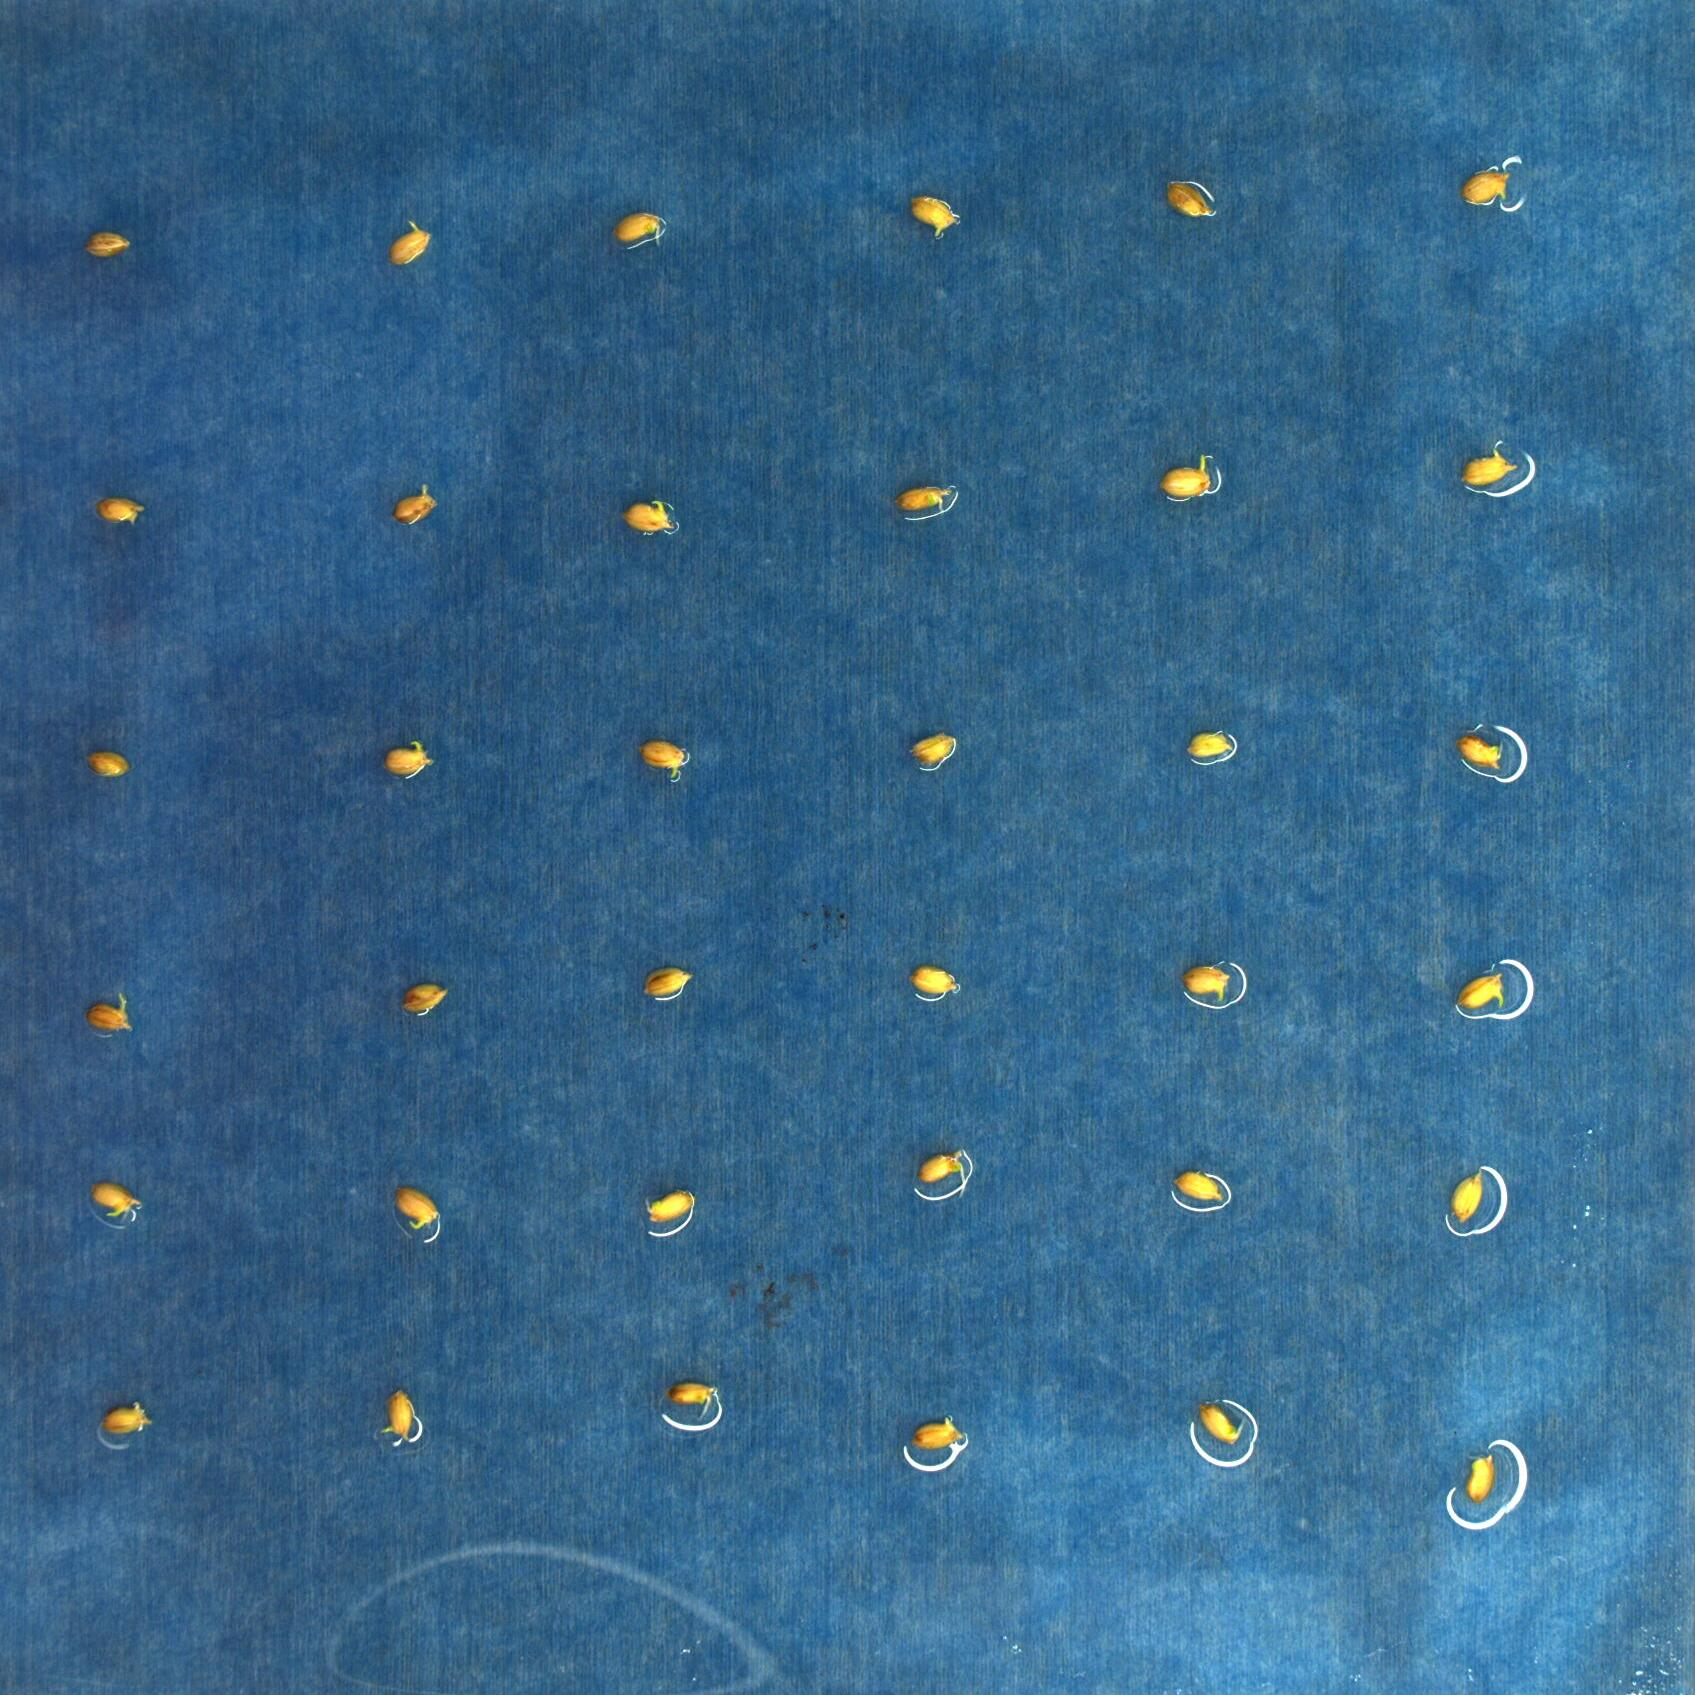not sprout: (1461, 438, 1516, 490), (1153, 450, 1211, 498), (1158, 179, 1217, 224), (888, 481, 951, 520), (1445, 168, 1510, 205), (1198, 1399, 1248, 1447), (85, 990, 140, 1034), (377, 1383, 414, 1444), (917, 1150, 965, 1197), (612, 206, 667, 245), (1448, 733, 1509, 768), (390, 217, 433, 265), (906, 1416, 962, 1453), (1454, 969, 1507, 1007), (1450, 1166, 1484, 1225), (383, 739, 430, 781), (394, 1186, 439, 1228), (84, 220, 130, 261), (635, 744, 688, 778), (917, 199, 961, 239), (95, 1180, 138, 1218), (640, 1192, 691, 1225), (400, 981, 447, 1017), (1180, 733, 1239, 761), (1461, 1453, 1495, 1501), (390, 484, 433, 522), (106, 1399, 151, 1434), (1180, 965, 1231, 997), (1177, 1172, 1225, 1205), (630, 498, 671, 537), (906, 965, 959, 995), (644, 965, 688, 1001), (677, 1381, 712, 1420), (99, 497, 146, 525), (914, 737, 953, 764), (92, 751, 126, 781)
